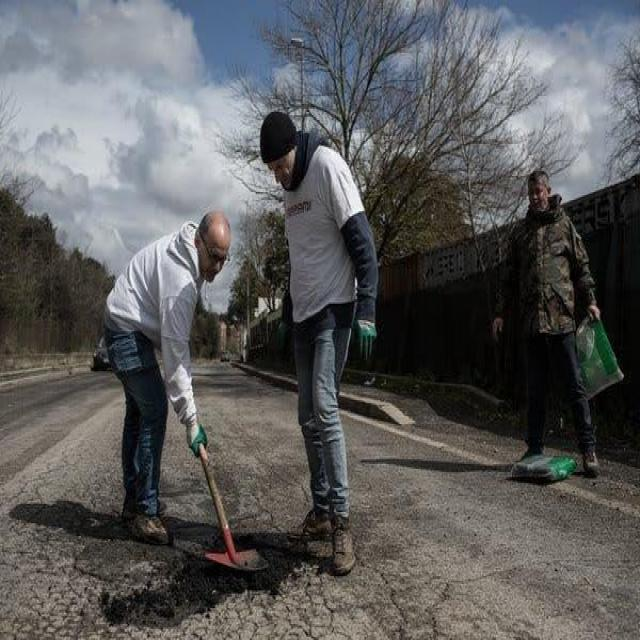jalan retak: (1, 520, 96, 640), (358, 537, 459, 640), (164, 590, 351, 640), (277, 553, 372, 640), (435, 549, 640, 581), (0, 459, 82, 533), (229, 428, 298, 515), (444, 586, 539, 640), (0, 416, 76, 481)
lubang: (68, 526, 312, 634)
